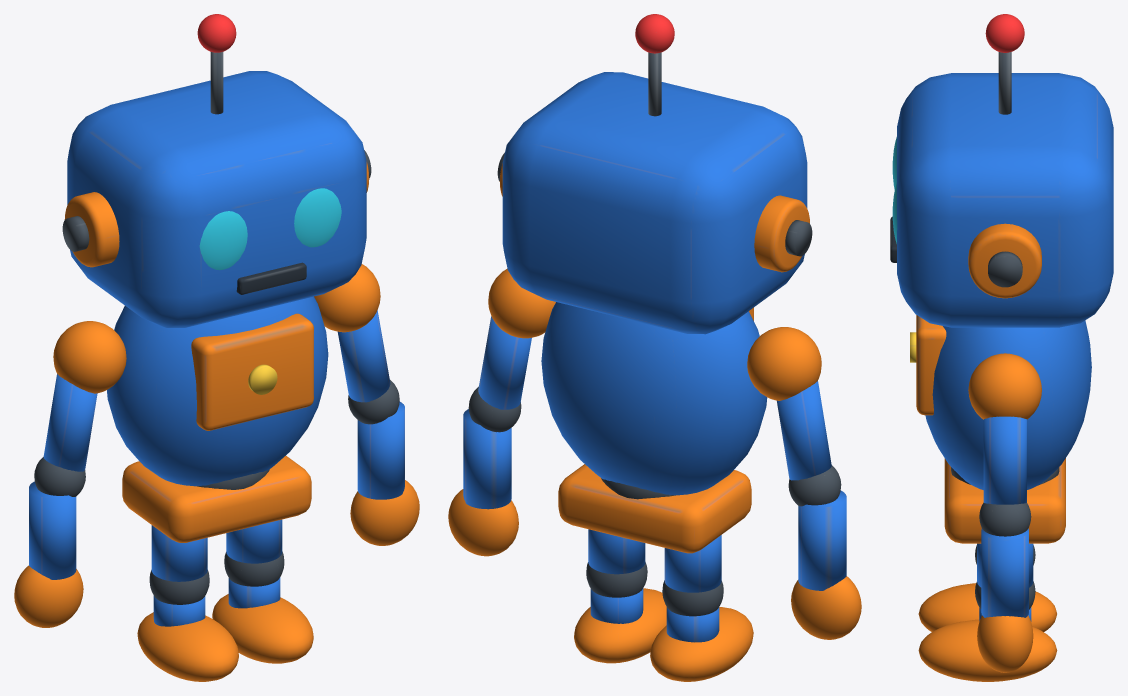
The model's file is robot.glb.
3 renders of one model, left to right at view 1: azimuth 30°, elevation 25°; view 2: azimuth 150°, elevation 25°; view 3: azimuth 270°, elevation 25°, orthographic.
Visible parts, largest first — view 1: Head, Torso, ChestPlate, Pelvis, Foot.L, Foot.R, Shoulder.L, Forearm.L, Forearm.R, UpperArm.L, UpperArm.R, Hand.L (+18 smaller); view 2: Head, Torso, Pelvis, Foot.L, Shoulder.L, Forearm.L, Forearm.R, Foot.R, UpperArm.L, UpperArm.R, Hand.L, Hand.R (+13 smaller); view 3: Head, Torso, Pelvis, Foot.R, Forearm.R, Shoulder.R, UpperArm.R, Ear.R, Foot.L, Hand.R, ChestPlate, Elbow.R (+4 smaller).
Part boxes in pixels (x1,y1,x2,y2): Head: (67, 71, 366, 327); Torso: (107, 296, 328, 486); ChestPlate: (191, 313, 313, 430); Pelvis: (122, 456, 311, 542); Foot.L: (137, 612, 238, 681); Foot.R: (212, 594, 313, 663); Shoulder.L: (53, 321, 126, 393); Forearm.L: (29, 481, 76, 579); Forearm.R: (357, 401, 404, 499); UpperArm.L: (43, 374, 97, 471); UpperArm.R: (337, 310, 390, 402); Hand.L: (14, 565, 83, 627); Head: (502, 72, 807, 334); Torso: (541, 302, 767, 495); Pelvis: (558, 464, 751, 553); Foot.L: (650, 607, 753, 681); Shoulder.L: (747, 327, 821, 400); Forearm.L: (798, 490, 846, 590); Forearm.R: (463, 409, 511, 509); Foot.R: (574, 588, 666, 663); UpperArm.L: (777, 381, 831, 480); UpperArm.R: (478, 316, 531, 409); Hand.L: (791, 576, 861, 639); Hand.R: (448, 489, 518, 556); Head: (897, 73, 1113, 327); Torso: (925, 320, 1091, 489); Pelvis: (944, 458, 1065, 543); Foot.R: (918, 619, 1057, 681); Forearm.R: (981, 528, 1028, 617); Shoulder.R: (968, 353, 1041, 419); UpperArm.R: (983, 416, 1026, 504); Ear.R: (968, 223, 1041, 298); Foot.L: (918, 583, 1056, 631); Hand.R: (977, 615, 1033, 672); ChestPlate: (916, 315, 946, 415); Elbow.R: (979, 502, 1031, 536).
Size of the model in its own units: 0.5859 by 0.8952 by 0.282.
1 material, 1 textured.
